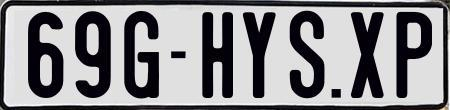6: (27, 12, 65, 100)
9: (73, 10, 114, 97)
G: (123, 8, 158, 99)
H: (200, 12, 234, 104)
P: (394, 10, 430, 96)
S: (287, 10, 323, 99)
X: (348, 9, 385, 97)
Y: (240, 12, 275, 98)
